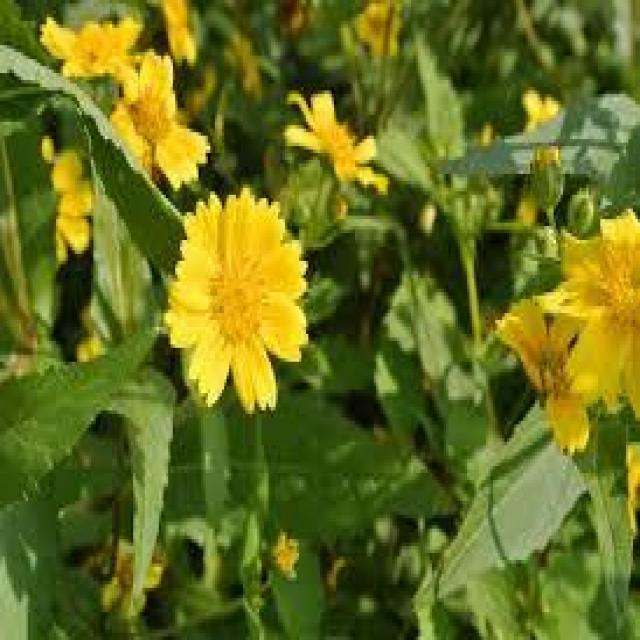organic waste: (167, 190, 305, 402), (552, 209, 639, 424), (106, 44, 212, 186), (285, 84, 395, 205)
